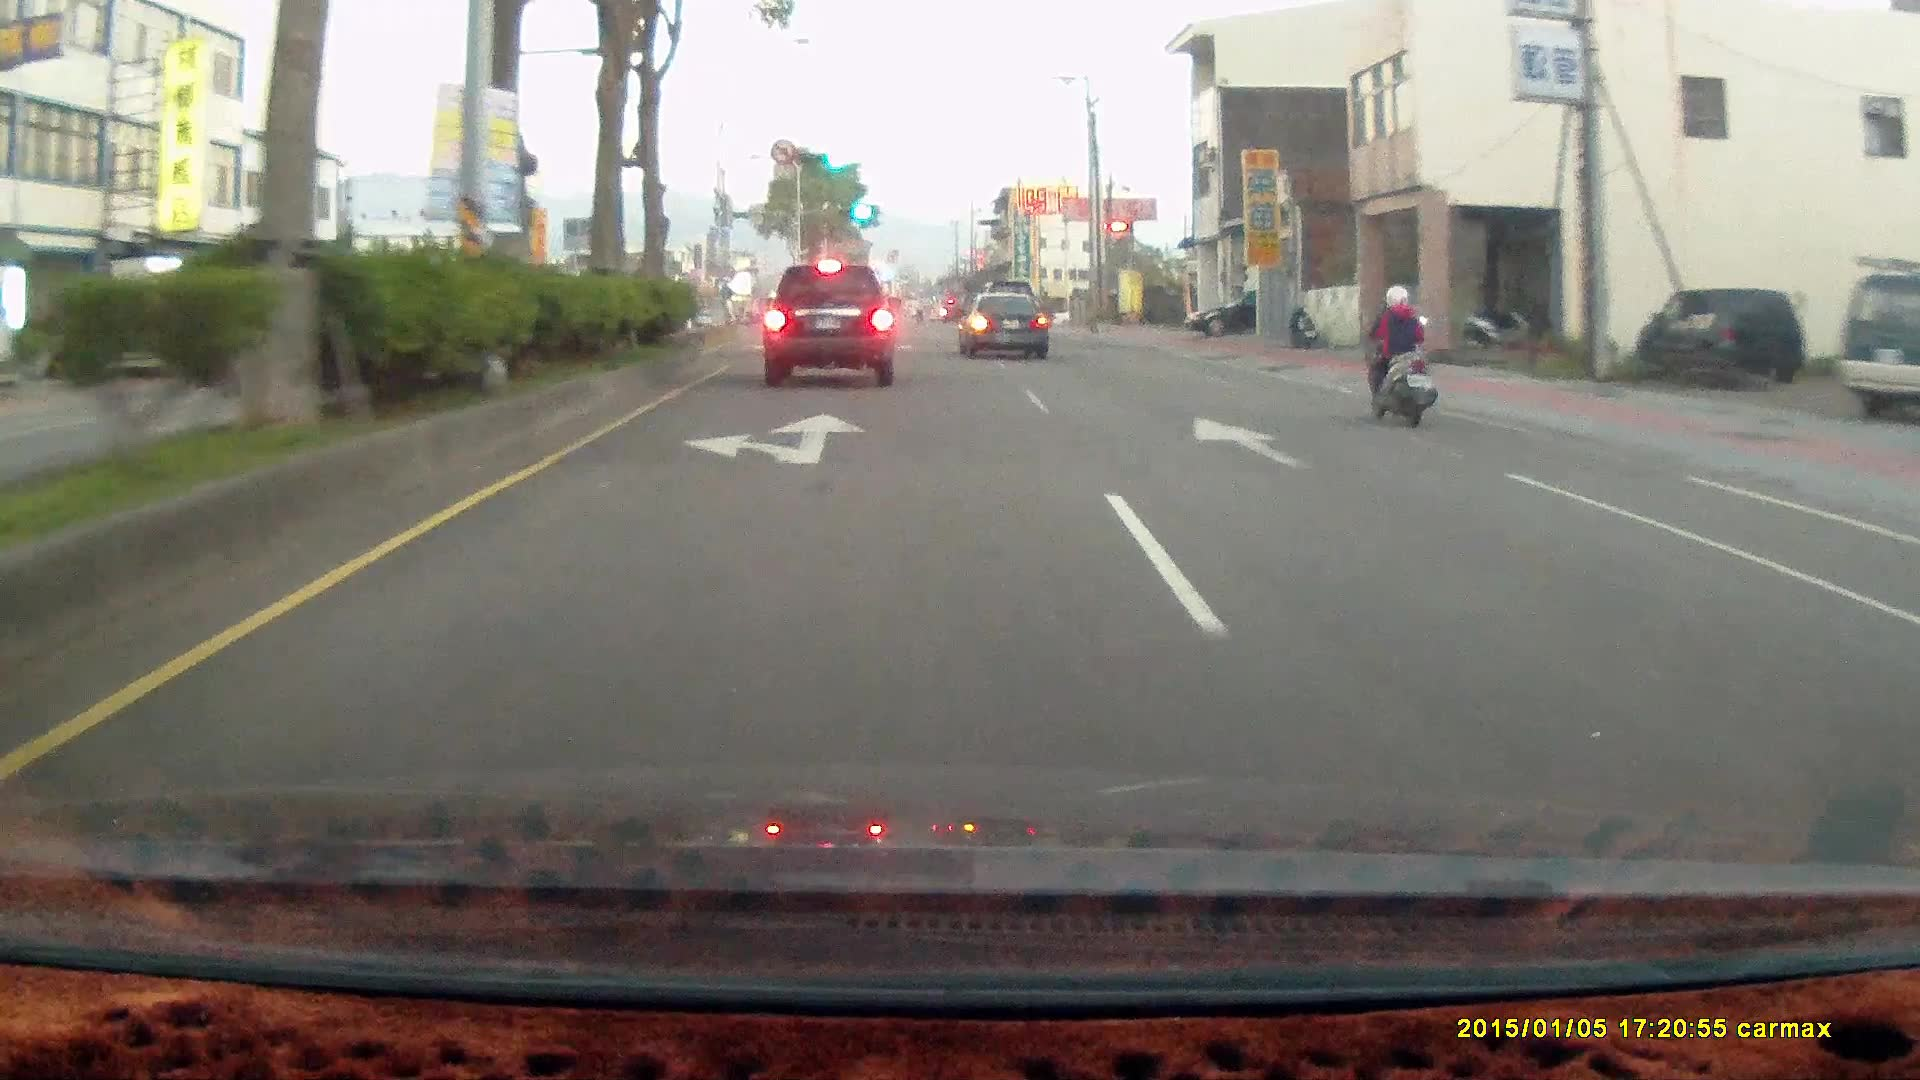rider: (1345, 268, 1451, 438), (1358, 281, 1437, 426)
vehicle: (1634, 282, 1806, 382), (764, 259, 899, 383), (763, 262, 901, 385), (1634, 286, 1804, 384), (1837, 272, 1919, 419), (956, 290, 1053, 362), (1185, 286, 1314, 336), (956, 292, 1046, 358), (1185, 288, 1260, 339)
